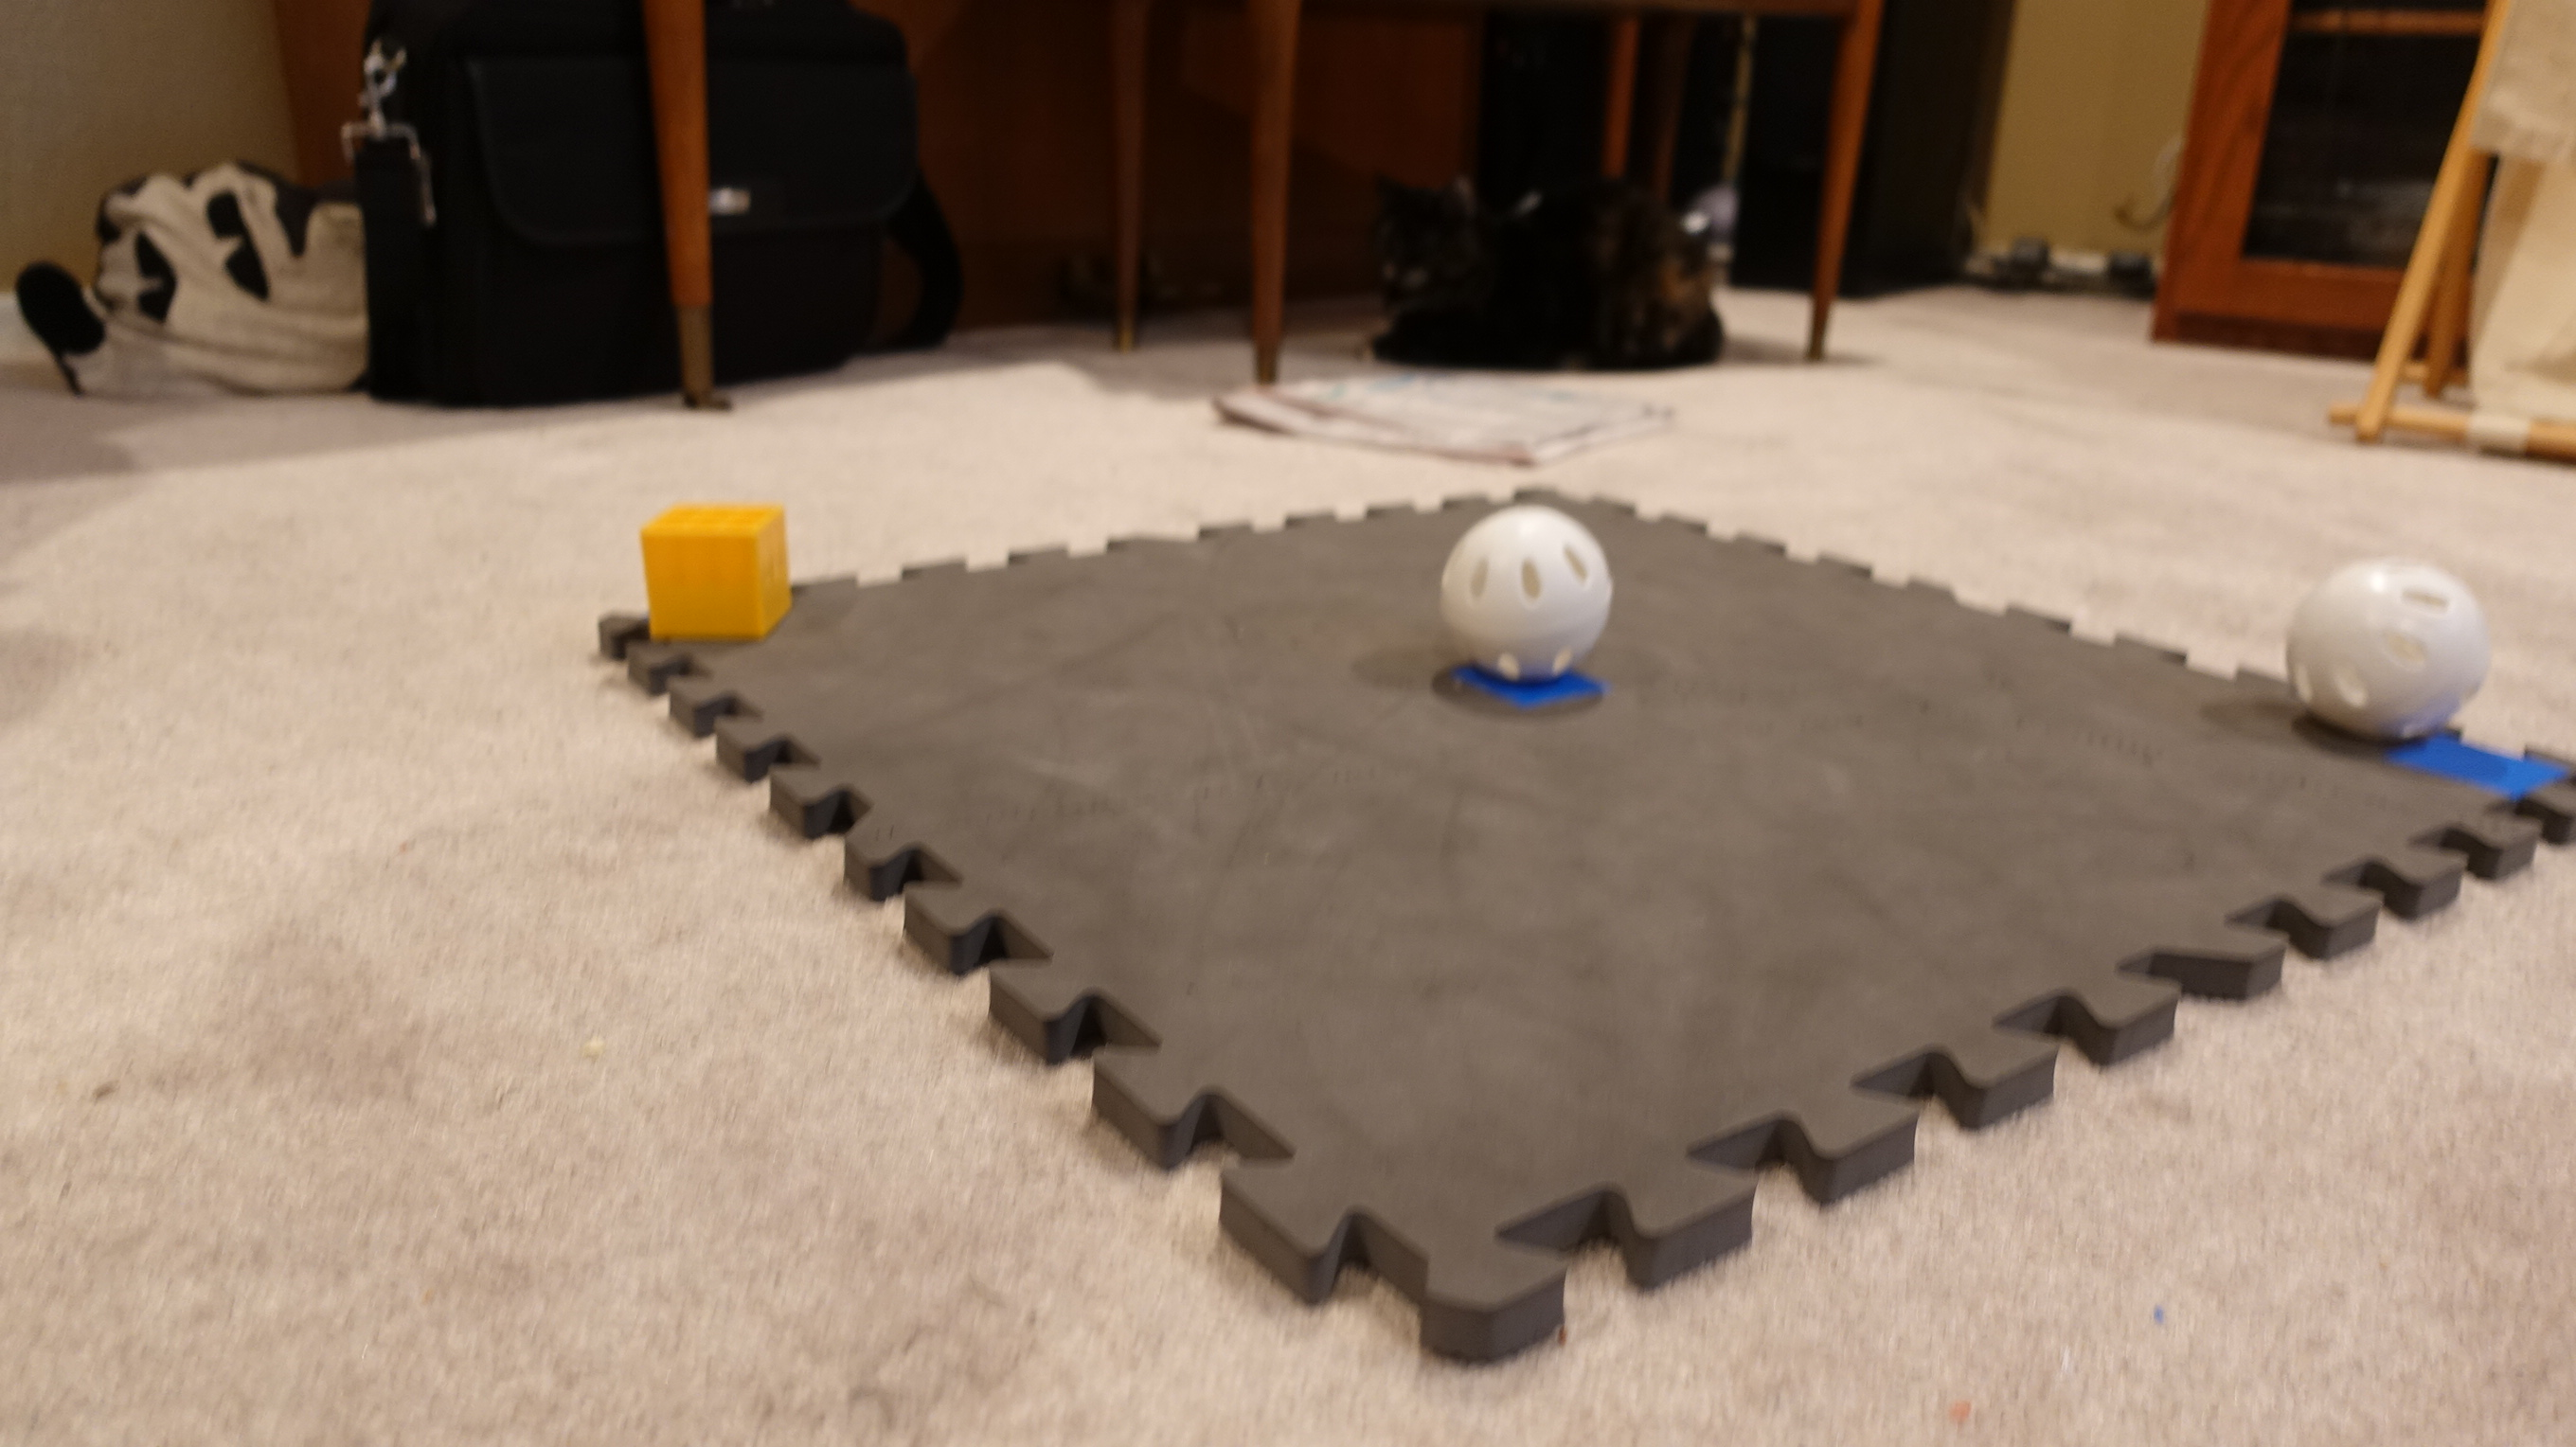gold: (642, 485, 801, 656)
silver: (2275, 540, 2491, 752), (1433, 501, 1619, 688)
